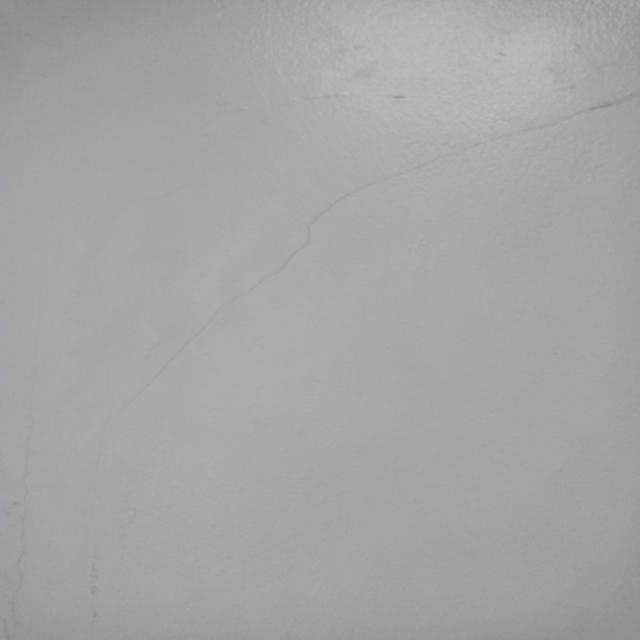Crack: (58, 92, 640, 443)
